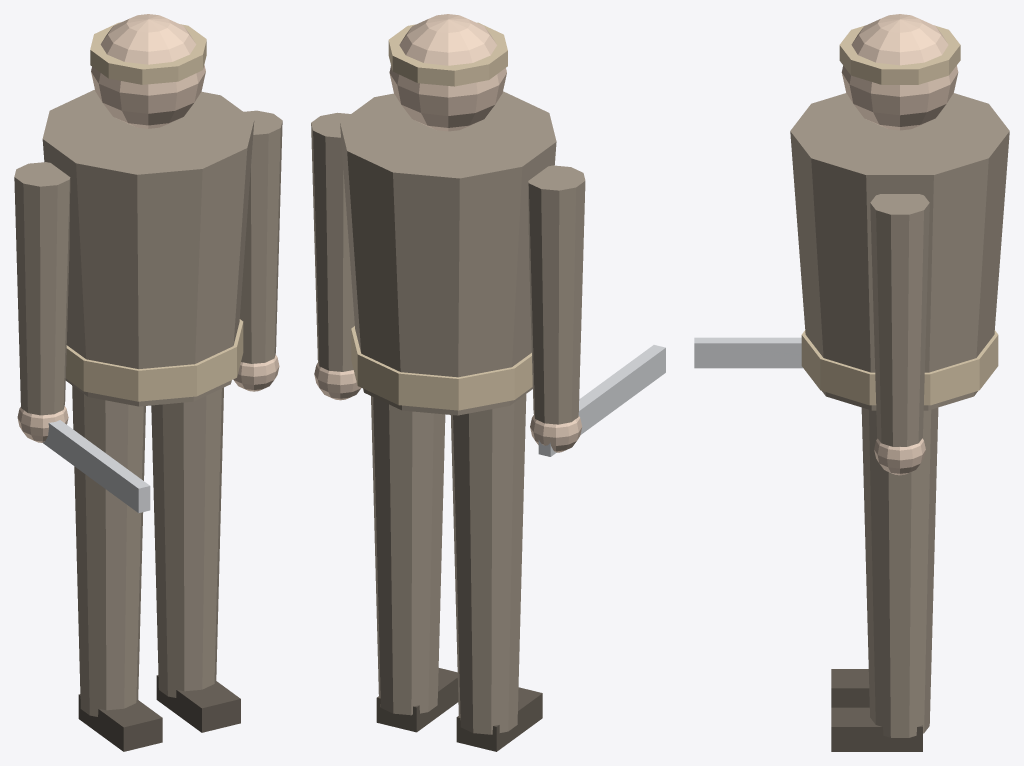
The picture shows the model from 3 angles, left to right: view 1: azimuth 30°, elevation 25°; view 2: azimuth 150°, elevation 25°; view 3: azimuth 270°, elevation 25°; orthographic projection. The views are drawn at different scales.
Parts seen in each view (by area): view 1: torso, thighL, thighR, armR, armL, head, belt, sword, band, footR, footL, handL (+1 smaller); view 2: torso, thighR, thighL, armR, armL, head, belt, sword, band, footR, footL, handR (+1 smaller); view 3: torso, thighL, armL, head, belt, sword, band, footL, footR, handL.
Part boxes in pixels (<box>): torso: <box>42,89,254,406</box>; thighL: <box>151,387,223,697</box>; thighR: <box>72,385,145,716</box>; armR: <box>14,162,70,415</box>; armL: <box>239,110,282,363</box>; head: <box>91,14,205,128</box>; belt: <box>66,319,243,401</box>; sword: <box>42,420,150,512</box>; band: <box>90,22,206,84</box>; footR: <box>78,694,162,751</box>; footL: <box>156,675,240,732</box>; handL: <box>233,354,279,391</box>; torso: <box>340,91,556,415</box>; thighR: <box>450,394,526,734</box>; thighL: <box>371,396,445,715</box>; armR: <box>528,165,585,424</box>; armL: <box>311,112,354,371</box>; head: <box>389,14,506,131</box>; belt: <box>351,326,532,410</box>; sword: <box>538,345,665,456</box>; band: <box>388,22,507,86</box>; footR: <box>456,687,542,751</box>; footL: <box>376,668,458,732</box>; handR: <box>530,415,582,452</box>; torso: <box>790,93,1009,410</box>; thighL: <box>861,407,938,737</box>; armL: <box>870,194,929,446</box>; head: <box>841,14,958,130</box>; belt: <box>801,330,998,405</box>; sword: <box>694,337,802,368</box>; band: <box>839,25,960,84</box>; footL: <box>831,707,922,751</box>; footR: <box>831,669,869,707</box>; handL: <box>874,438,925,475</box>.
Bounding box in the file's own units: 0.6636 × 1.7 × 0.69.
